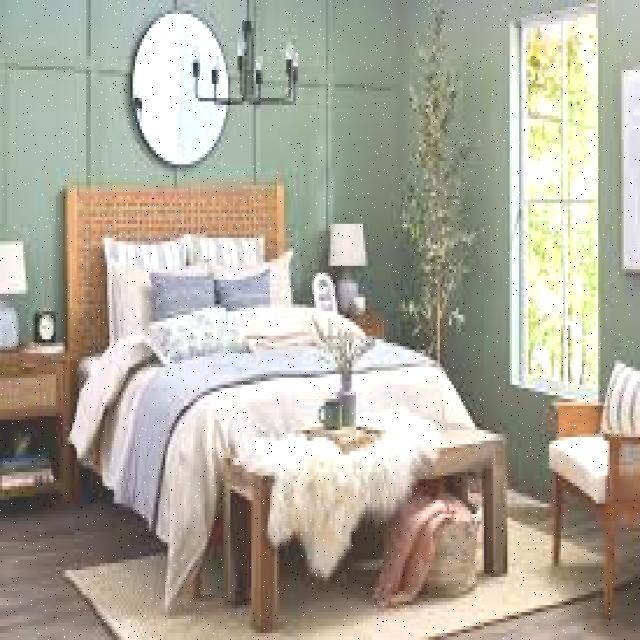bed: (98, 237, 417, 410)
